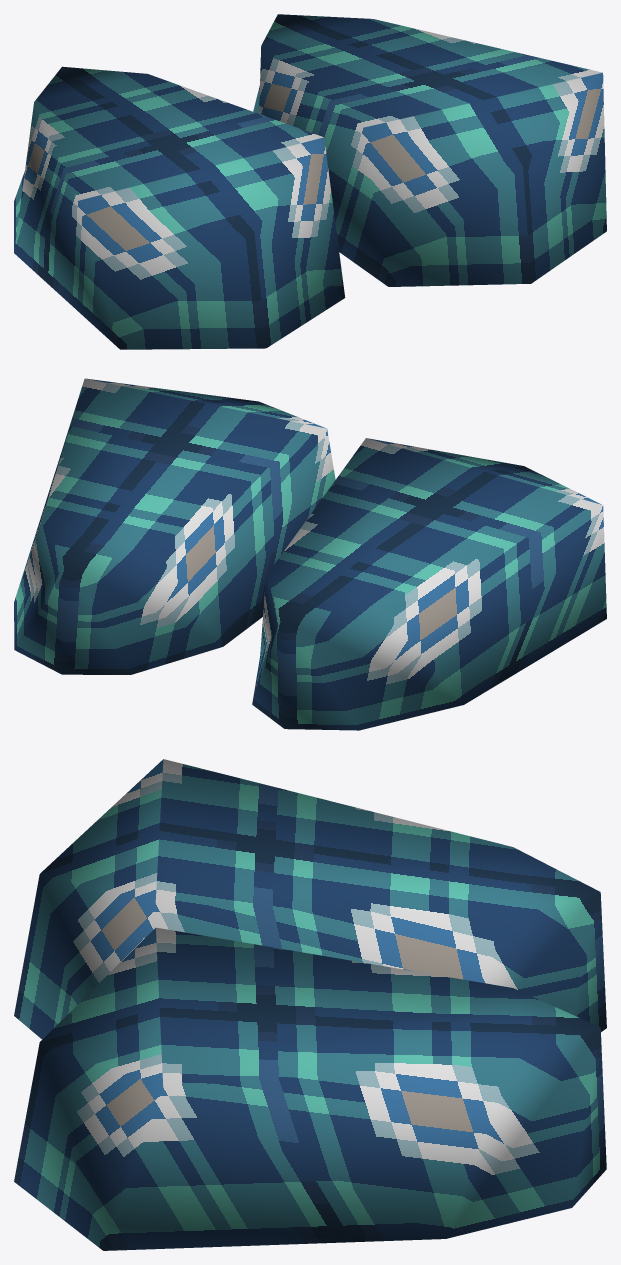
File: 2807foot000_r.gltf
3 views of the same model, one above another, from view 1: azimuth 30°, elevation 25°; view 2: azimuth 150°, elevation 25°; view 3: azimuth 270°, elevation 25° (orthographic). The views are drawn at different scales.
Visible parts, largest first — view 1: 2807foot000_r; view 2: 2807foot000_r; view 3: 2807foot000_r.
Boxes of the visible parts, x1,y1,x2,y2 form: 2807foot000_r: [14, 14, 606, 349]; 2807foot000_r: [14, 378, 606, 730]; 2807foot000_r: [14, 759, 606, 1250].
Bounding box in the file's own units: 0.8501 × 0.2214 × 0.6479.
Materials: 1 (1 with a texture image).
